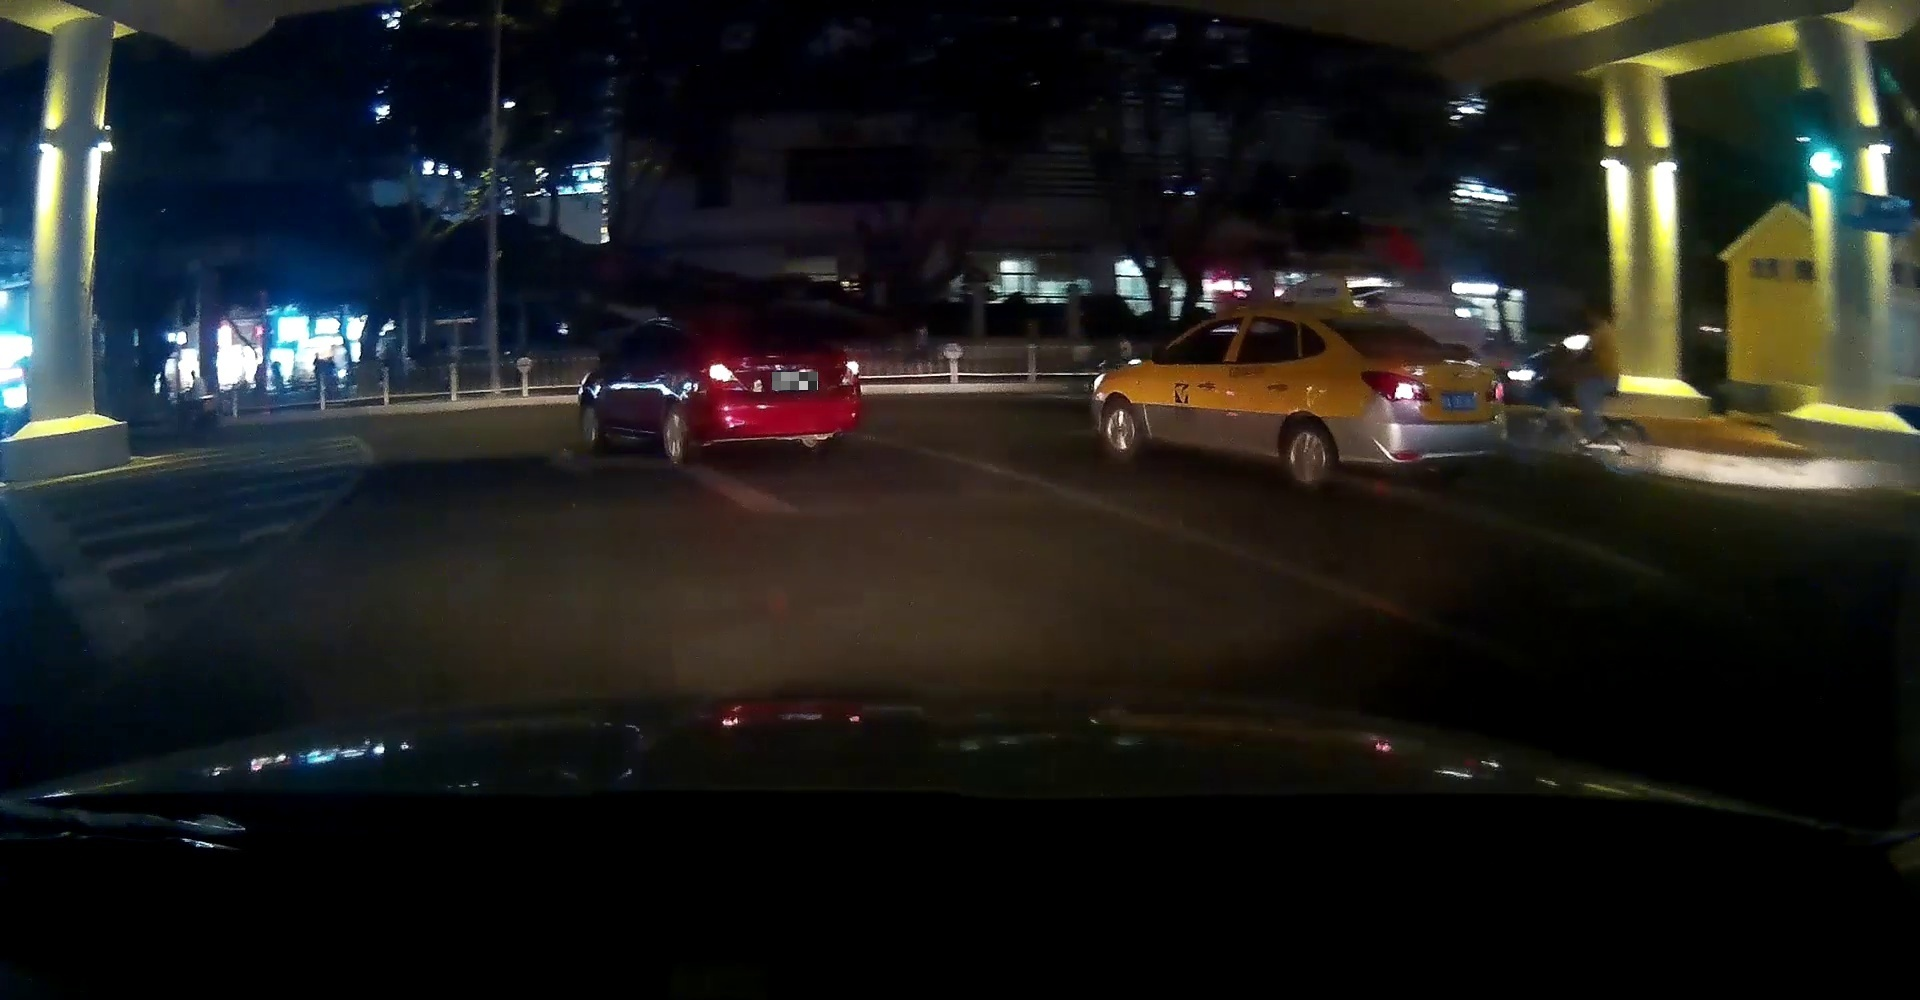L_light: (1360, 371, 1432, 401), (709, 362, 745, 390)
R_light: (1484, 376, 1503, 404), (838, 362, 858, 386)
T_light: (1365, 319, 1392, 324), (745, 324, 771, 329)
night-no: (1309, 310, 1507, 494), (703, 319, 861, 464)
plate_1: (772, 372, 818, 390)
